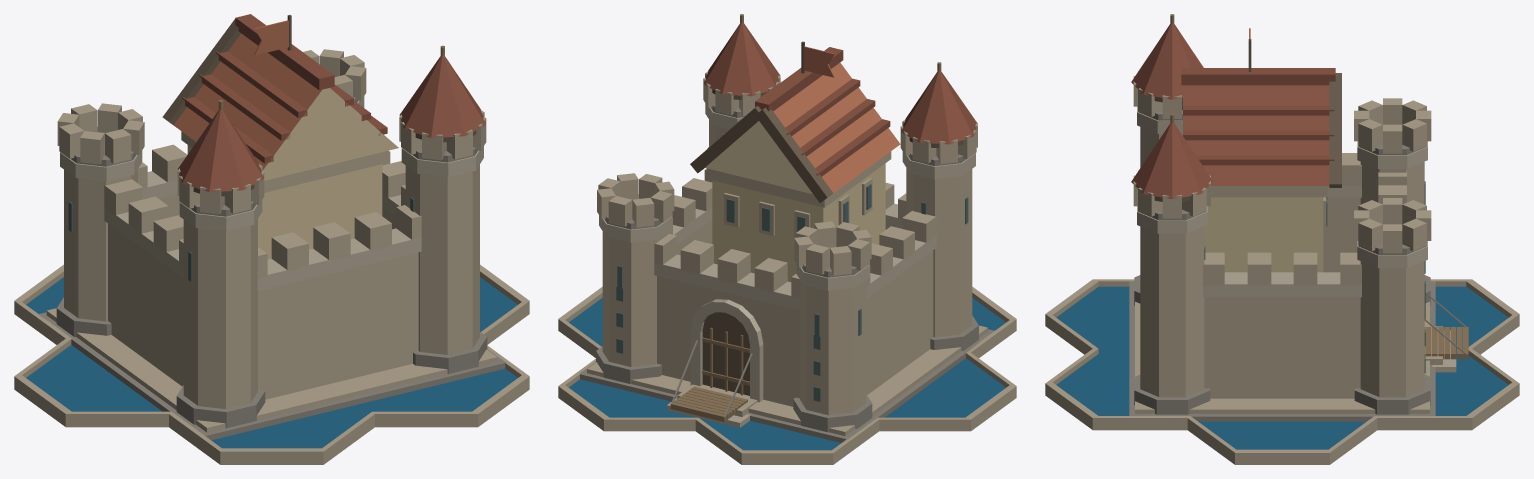
File: Building_Castle.fbx
3 renders of one model, left to right at view 1: azimuth 30°, elevation 25°; view 2: azimuth 150°, elevation 25°; view 3: azimuth 270°, elevation 25°, orthographic. The views are drawn at different scales.
Parts seen in each view (by area): view 1: Building_Castle; view 2: Building_Castle; view 3: Building_Castle.
Part boxes in pixels (x1,y1,x2,y2): Building_Castle: (14, 14, 529, 464); Building_Castle: (558, 14, 1016, 464); Building_Castle: (1045, 14, 1519, 464).
Size of the model in its own units: 5.14 by 3.7 by 4.95.
